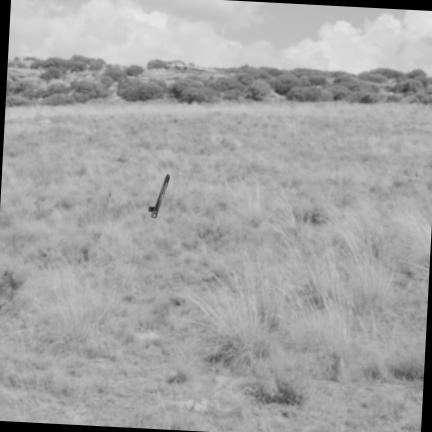Shahed: (149, 174, 170, 218)
